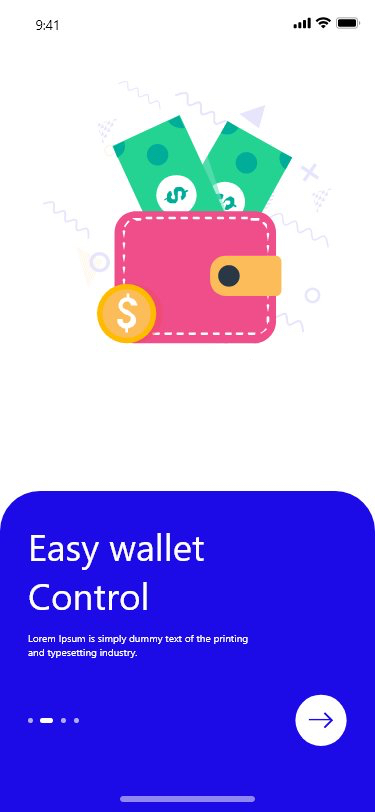Icon: (295, 694, 347, 747)
Image: (42, 81, 331, 345)
PageIndicator: (28, 717, 81, 724)
Text: (29, 533, 205, 612), (28, 634, 249, 659)
UpperTaskBar: (36, 17, 361, 32)
